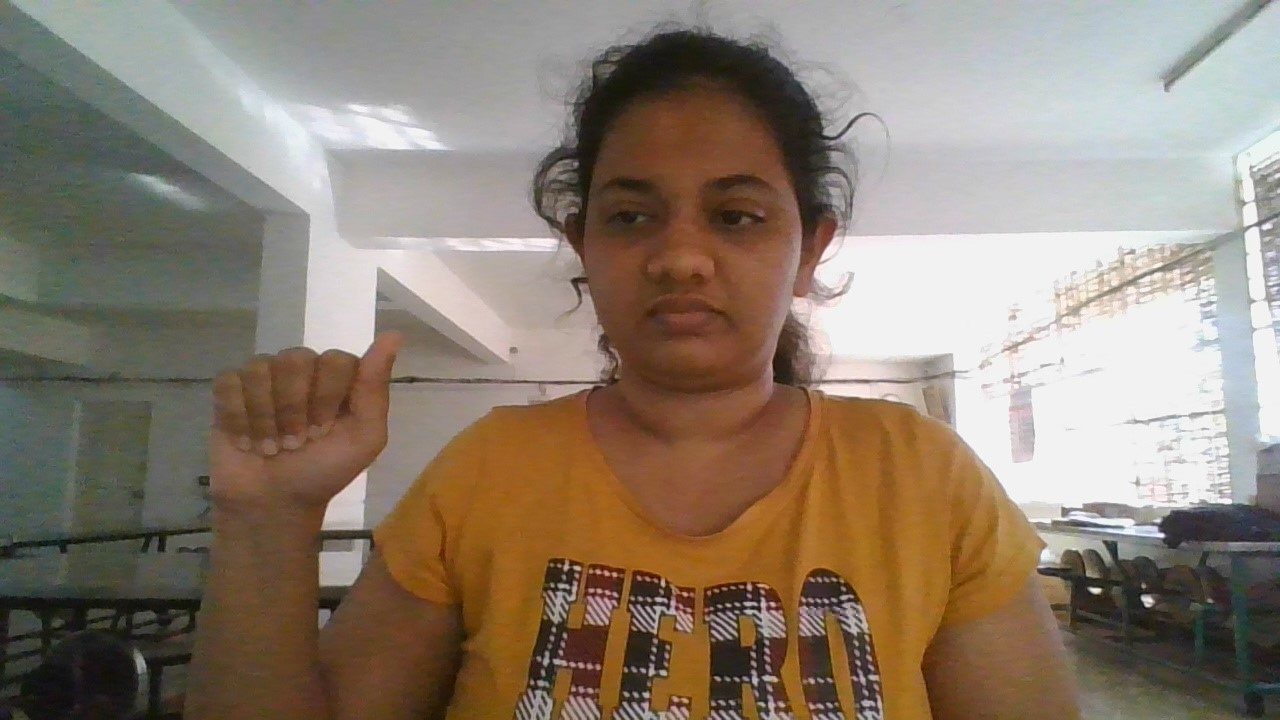a: (178, 322, 418, 534)
